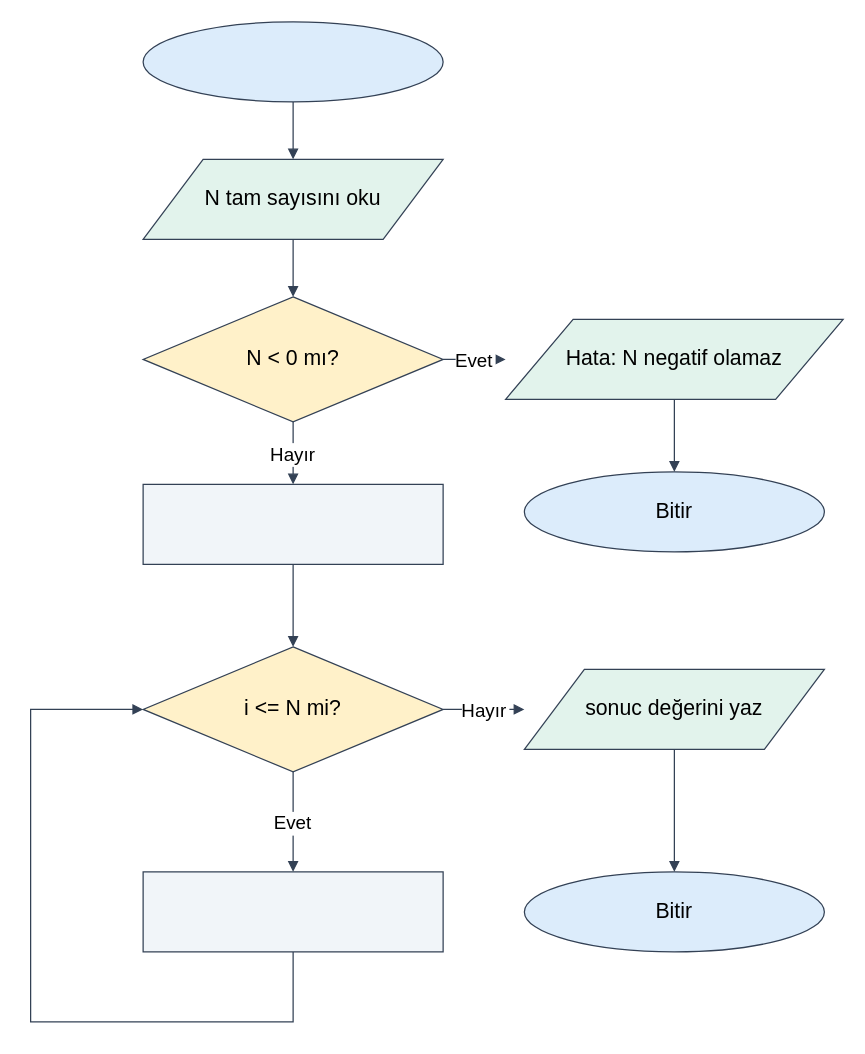
The diagram is 865 pixels wide and 1054 high, and some of its shapes have lost their labels. The shapes that lost their labels are listed below. From the top down, each one's centre as x and y in pixels, then its label:
At point 292,61: "Başla".
At point 292,523: "sonuc = 1 i = 1".
At point 292,911: "sonuc = sonuc * i i = i + 1".
